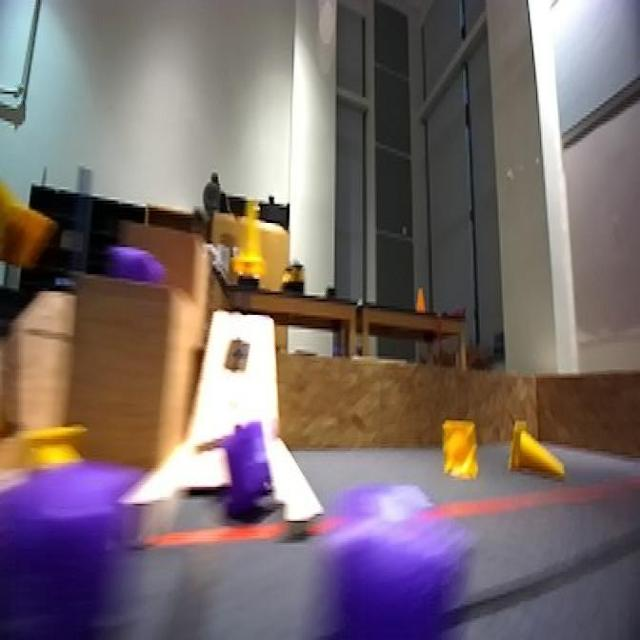frc_cone: (232, 177, 280, 293), (506, 410, 572, 487), (0, 165, 51, 255), (21, 420, 85, 475), (441, 418, 479, 476)
frc_cube: (288, 493, 472, 640), (0, 459, 120, 640), (218, 405, 275, 526), (115, 238, 169, 296)
